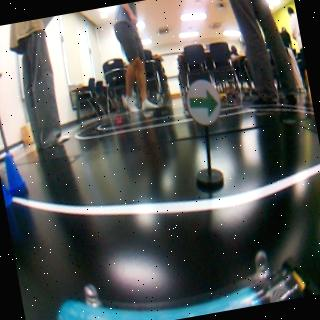right: (184, 79, 222, 127)
